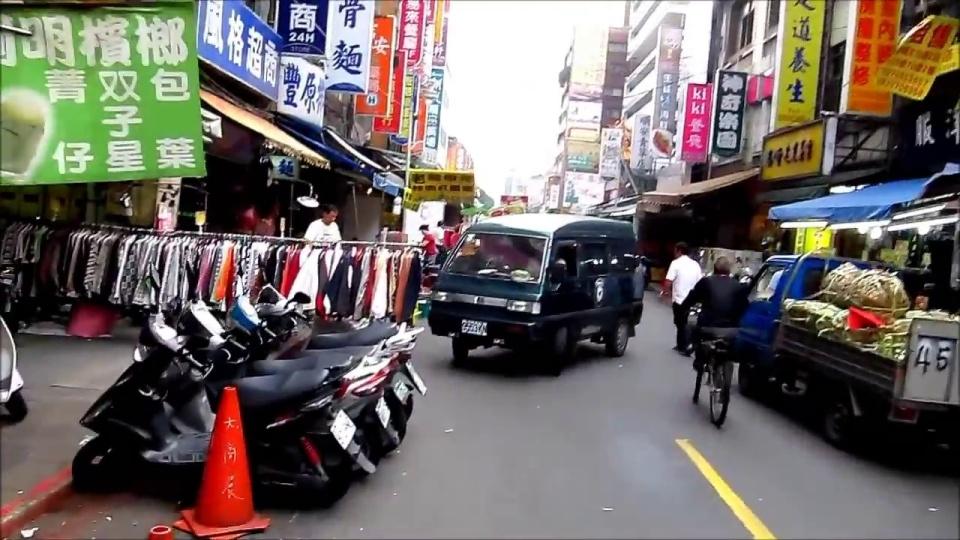person_head: (711, 255, 732, 274), (672, 244, 688, 258), (324, 208, 337, 222), (418, 223, 430, 231), (453, 223, 461, 233)
person_vbox: (679, 251, 751, 385), (658, 242, 702, 355), (303, 205, 342, 241), (414, 219, 438, 264), (448, 219, 463, 251)
